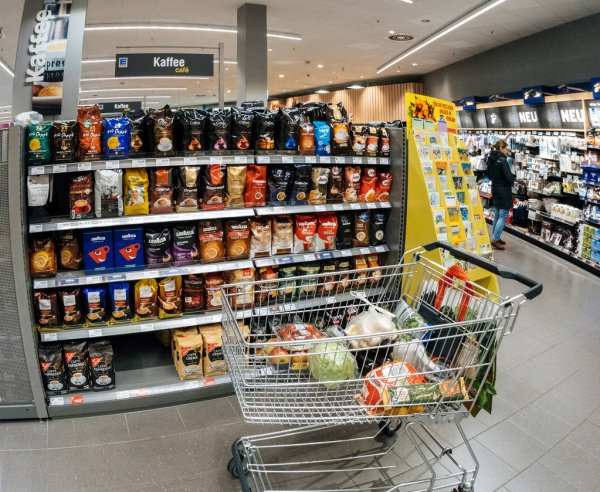with_basket: (175, 244, 539, 478)
